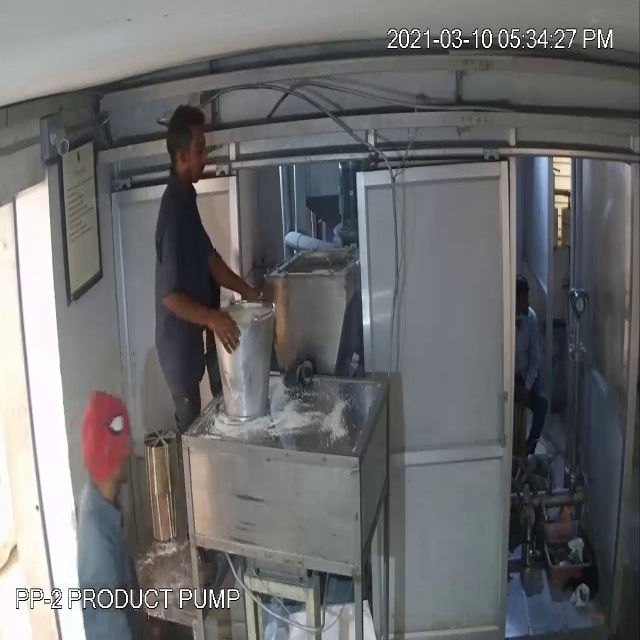Sin_guantes: (197, 231, 284, 332), (160, 276, 242, 364)
